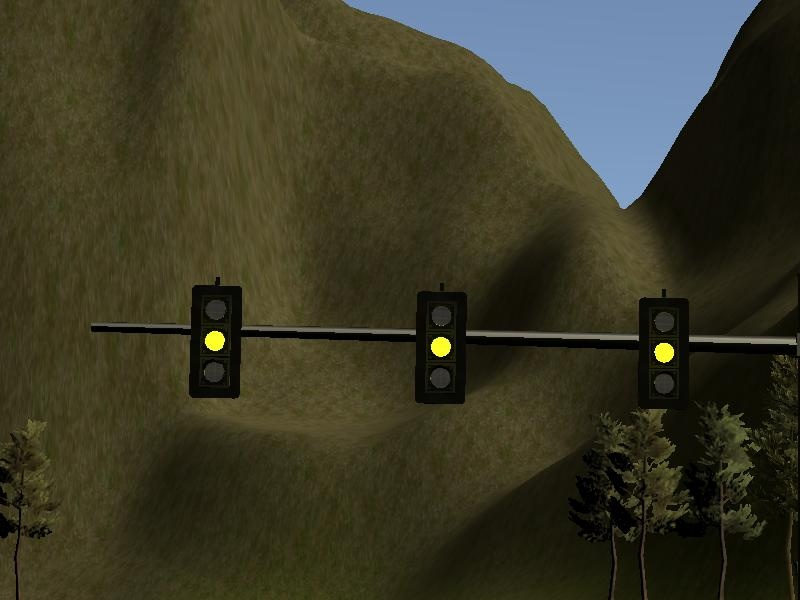YELLOW: (186, 284, 243, 398), (411, 290, 468, 404), (635, 293, 692, 407)
